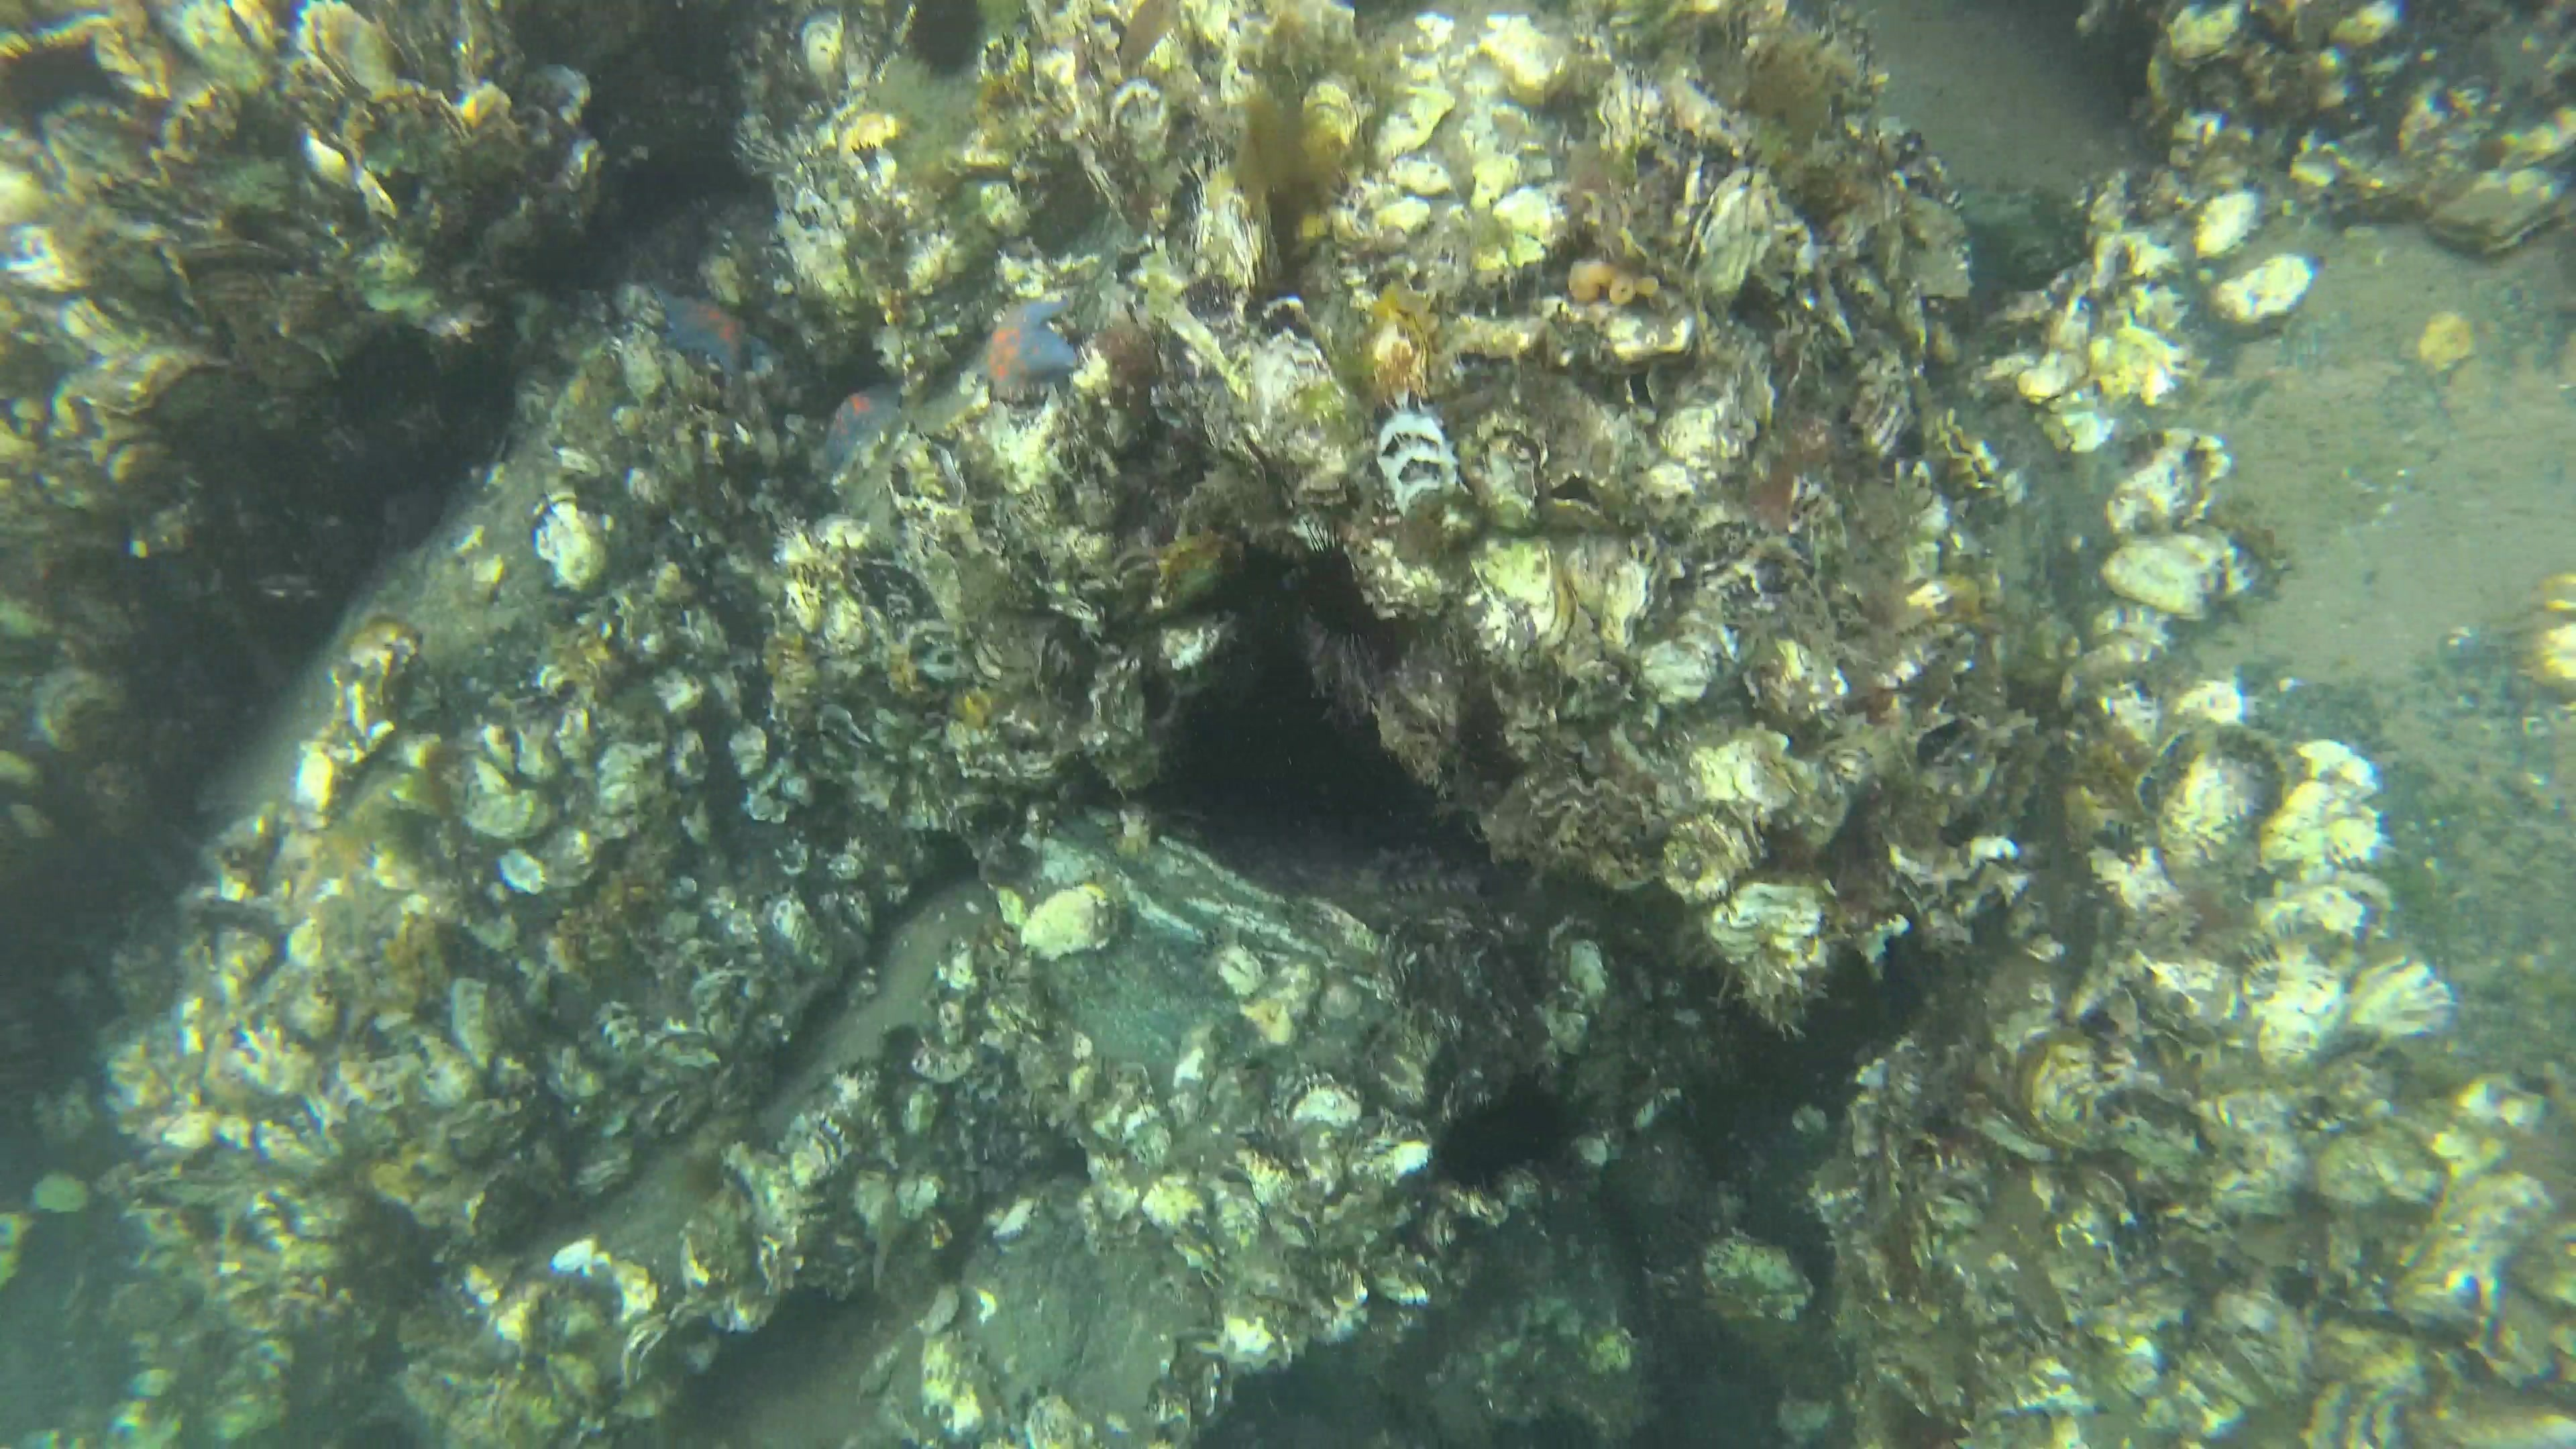echinus: (1293, 522, 1396, 665), (885, 0, 1001, 99), (1504, 1047, 1589, 1146), (1442, 1100, 1527, 1200)
holothurian: (1355, 863, 1484, 901), (1361, 844, 1440, 872)
starfish: (966, 292, 1086, 407), (646, 285, 778, 384), (807, 372, 915, 483)
